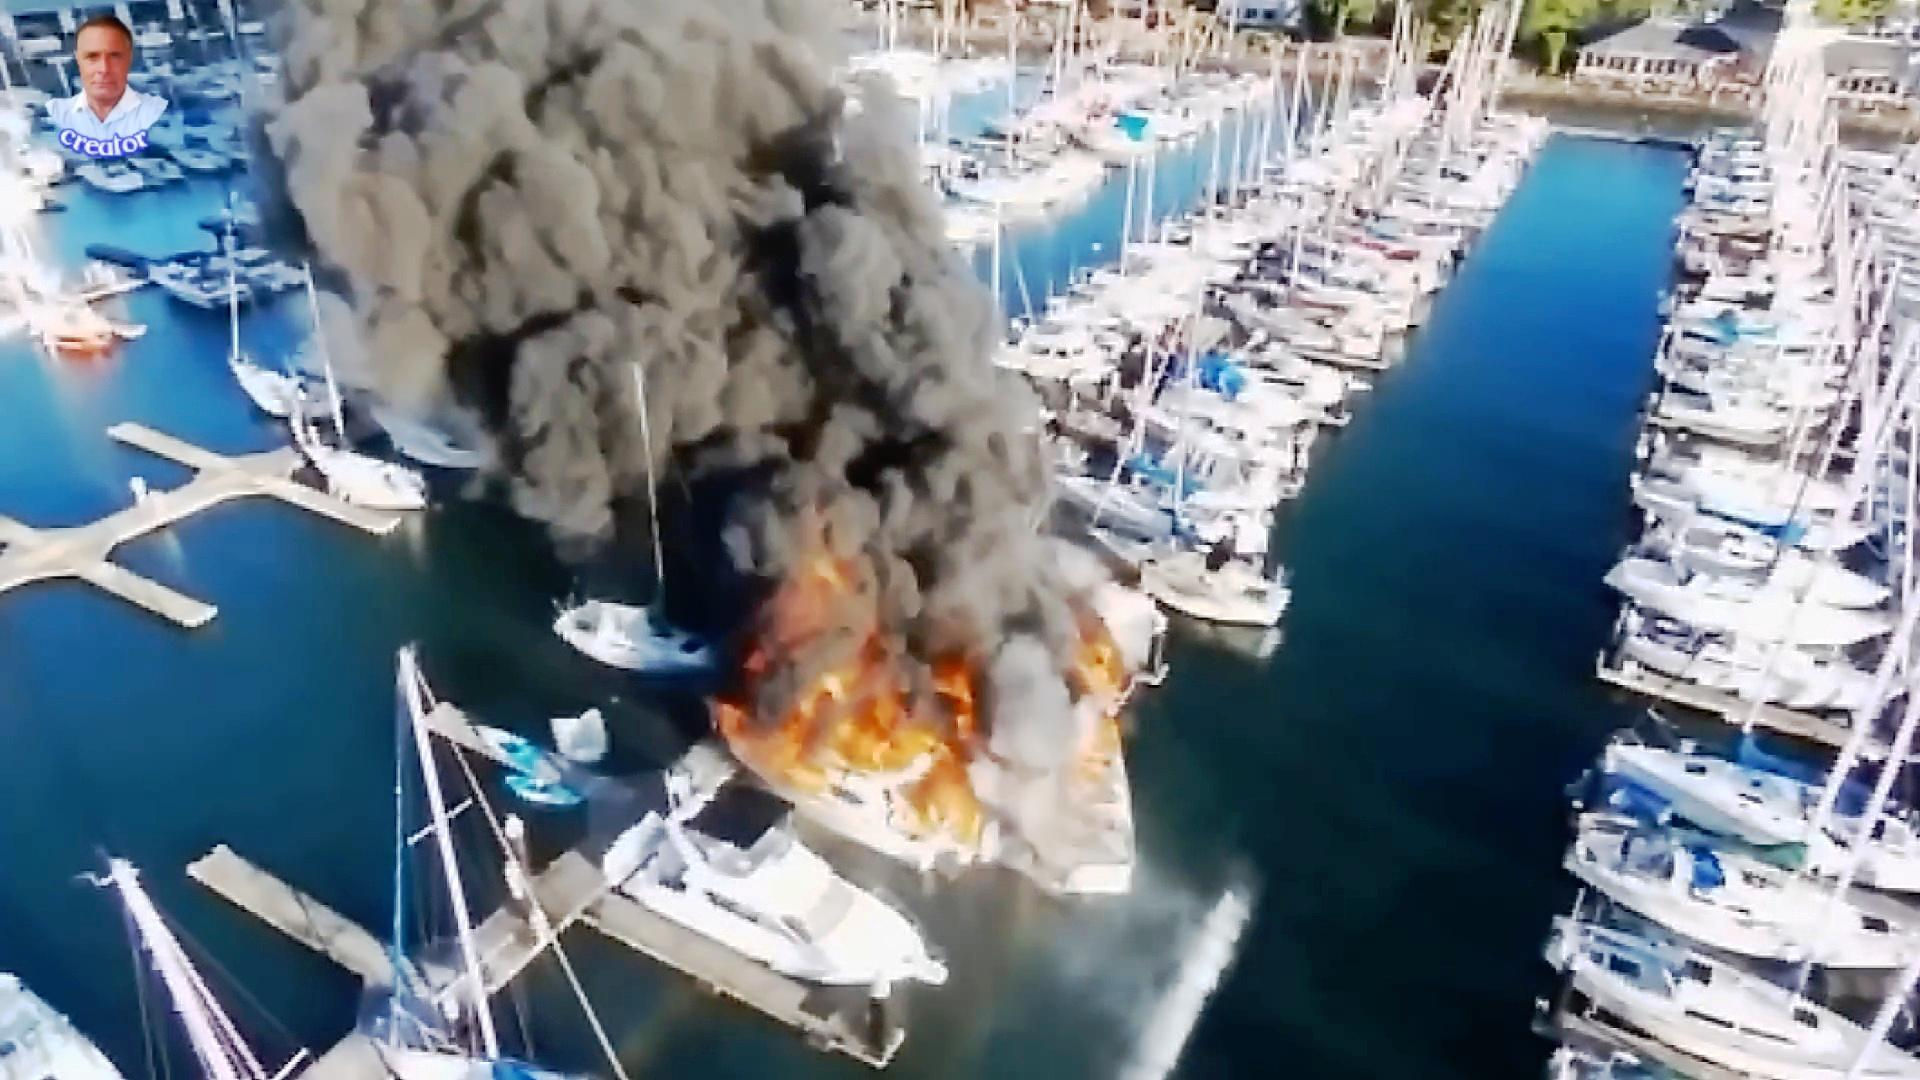fire: (695, 621, 949, 808)
smoke: (334, 7, 976, 516), (298, 0, 873, 278)
